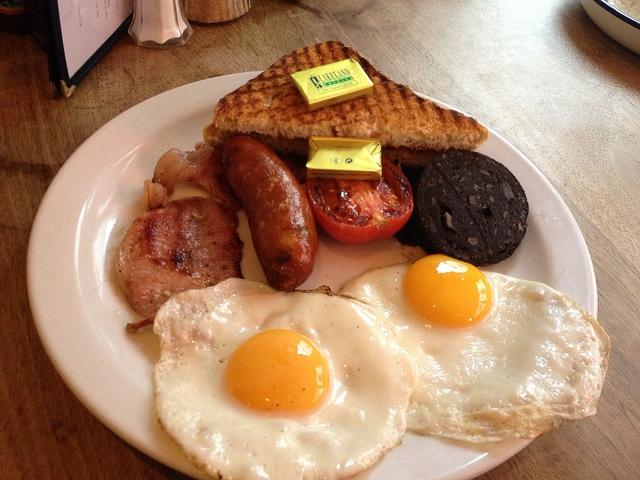tomato: (306, 157, 414, 245)
